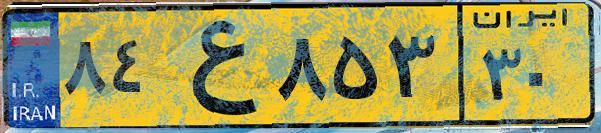0: (525, 38, 570, 115)
3: (385, 28, 445, 110), (475, 38, 525, 113)
4: (110, 28, 158, 98)
5: (330, 28, 385, 110)
8: (270, 28, 330, 110), (57, 26, 110, 100)
ع: (158, 12, 270, 120)
